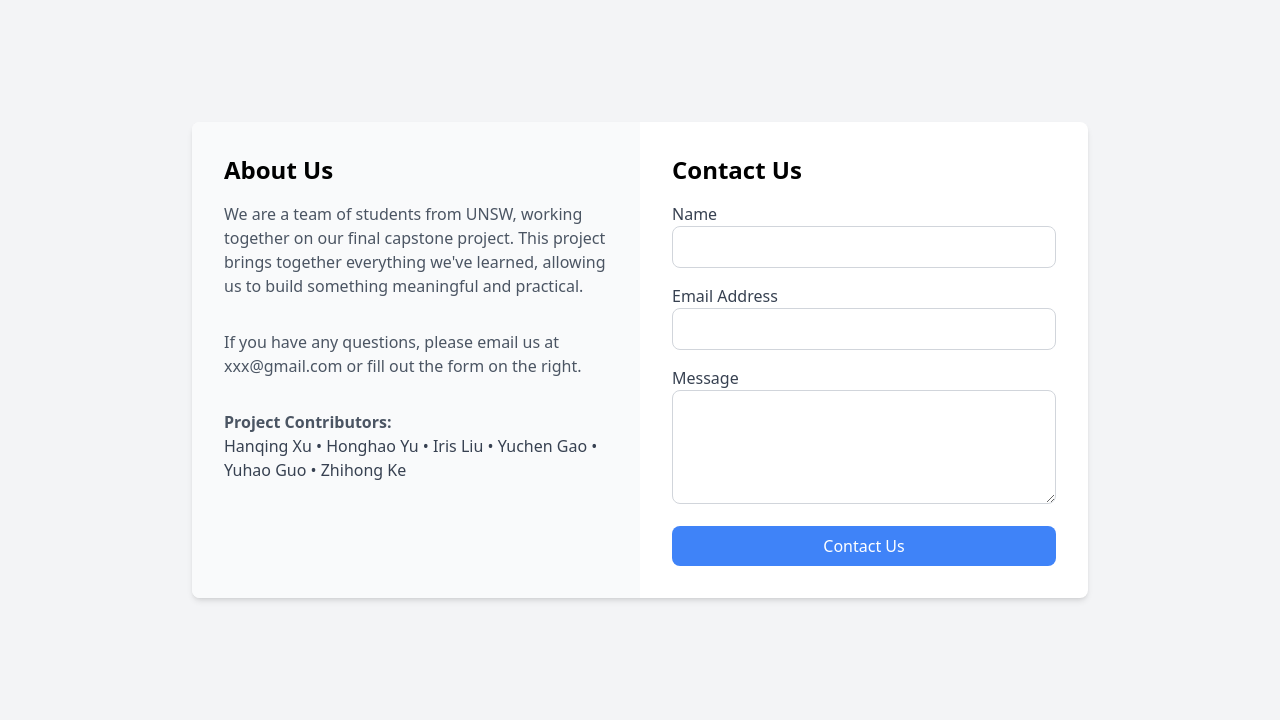
ContactPage Component › shows success modal when email is sent successfully
Type "John Doe" into the field labelled "Name" at (864, 247), box [672,226,1056,268]
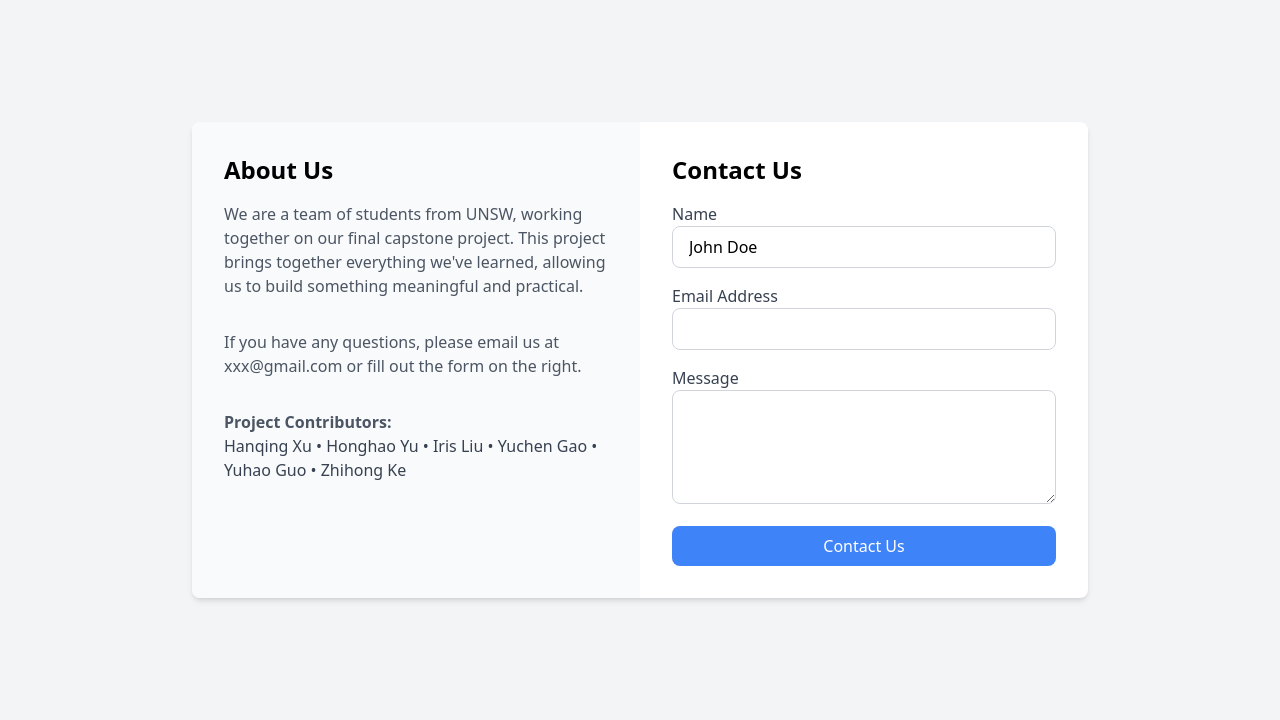
Type "john@example.com" into the field labelled "Email Address" at (864, 329), box [672,308,1056,350]
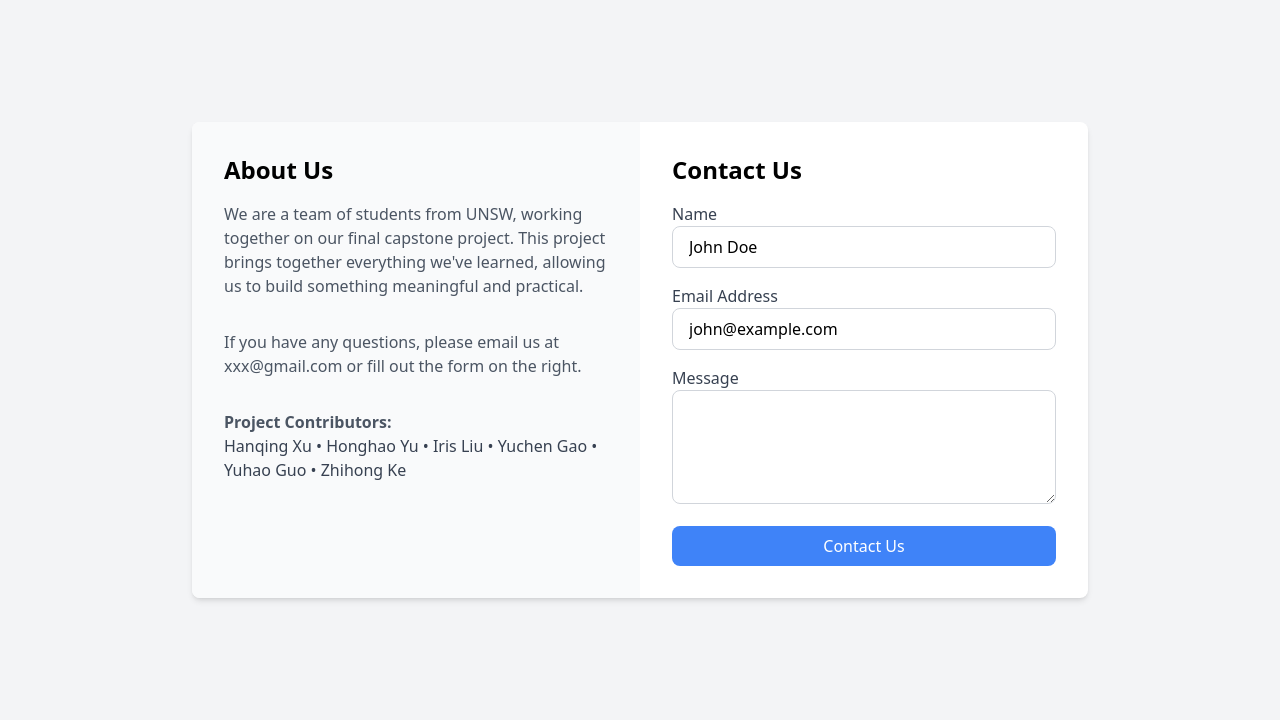
Type "Hello there!" into the text box labelled "Message" at (864, 447), box [672,390,1056,504]
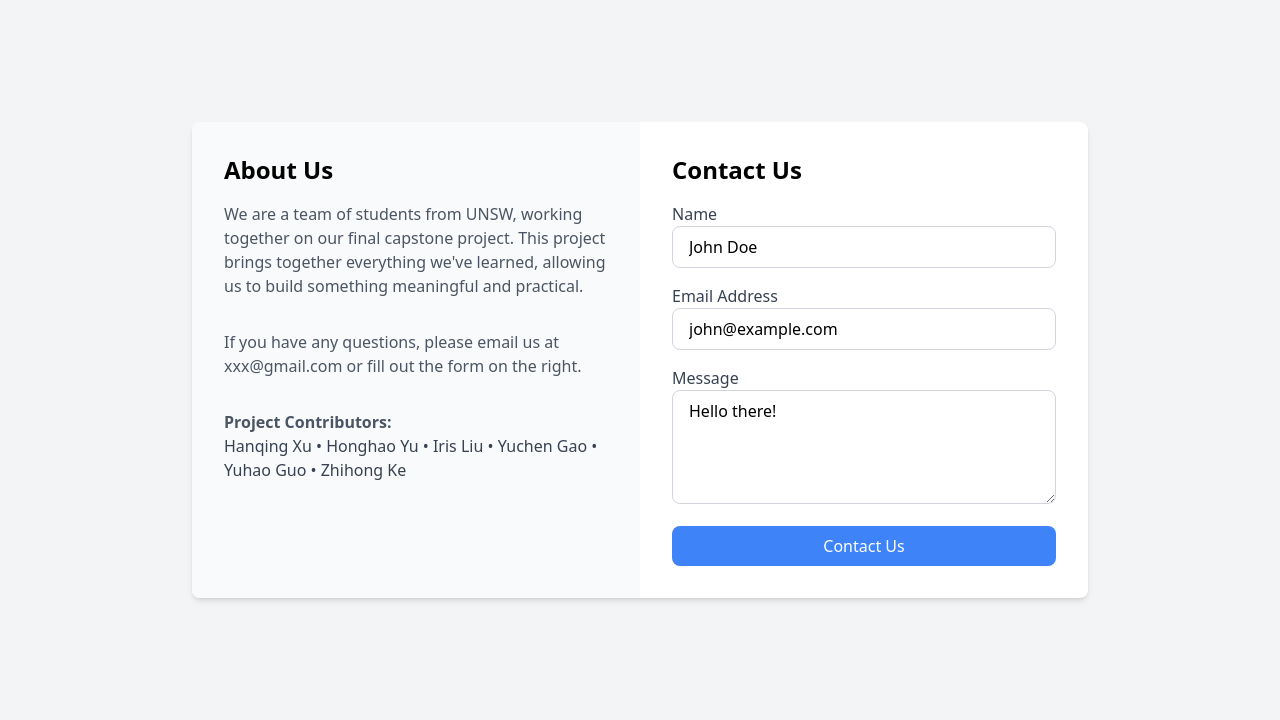
Click the button "Contact Us" at (864, 546), box [672,526,1056,566]
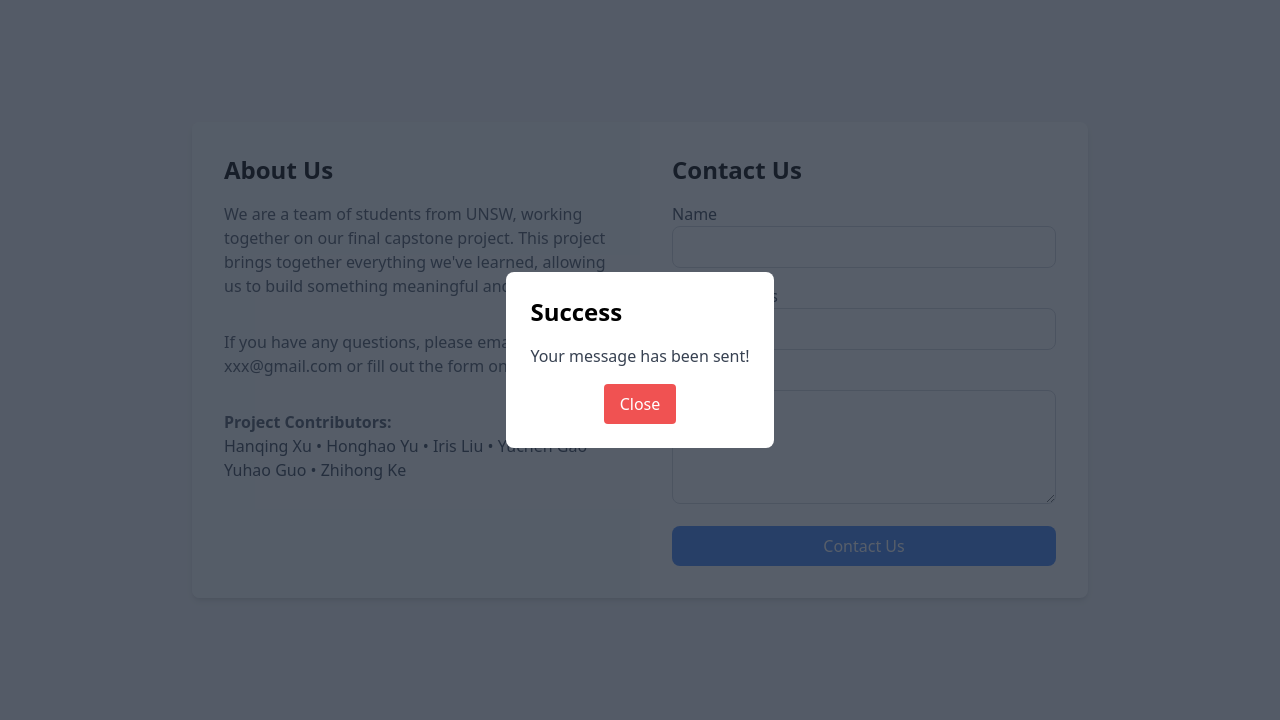
Expected: the text "Your message has been sent!" is shown, [530,344,750,368]
Expected: the heading "Success" is shown, [530,295,622,328]
